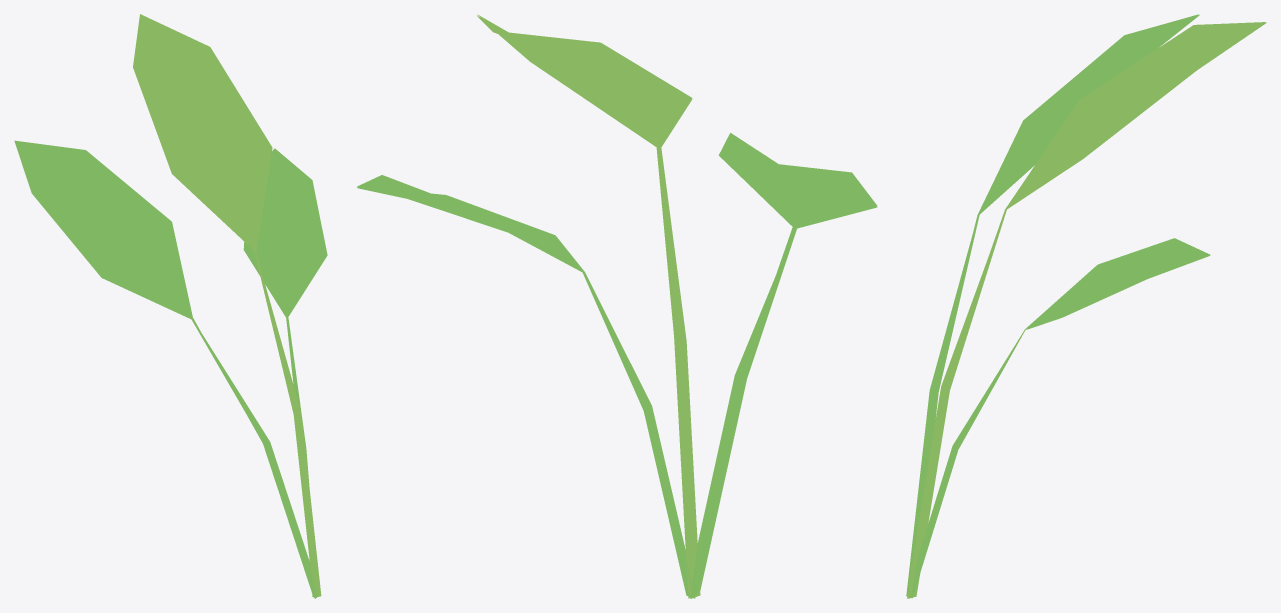
File: Plant_j_TwoS_03.fbx
3 renders of one model, left to right at view 1: azimuth 30°, elevation 25°; view 2: azimuth 150°, elevation 25°; view 3: azimuth 270°, elevation 25°, orthographic. The views are drawn at different scales.
Parts seen in each view (by area): view 1: Plant_j_TwoS_03; view 2: Plant_j_TwoS_03; view 3: Plant_j_TwoS_03.
Part boxes in pixels (x1,y1,x2,y2): Plant_j_TwoS_03: [14, 14, 327, 598]; Plant_j_TwoS_03: [357, 14, 877, 598]; Plant_j_TwoS_03: [906, 14, 1266, 598].
Bounding box in the file's own units: 0.3811 × 0.5993 × 0.349.
